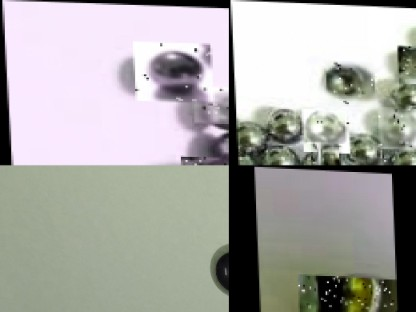ironball: (144, 48, 203, 96), (322, 59, 373, 107), (262, 96, 307, 144), (298, 108, 347, 152), (334, 274, 383, 311), (375, 105, 415, 148), (300, 108, 344, 144), (189, 84, 228, 122), (233, 117, 265, 161), (251, 141, 299, 165), (208, 243, 231, 293), (297, 271, 321, 311), (395, 43, 415, 84), (307, 143, 338, 165), (176, 155, 228, 165), (234, 152, 267, 165), (363, 156, 388, 165)
